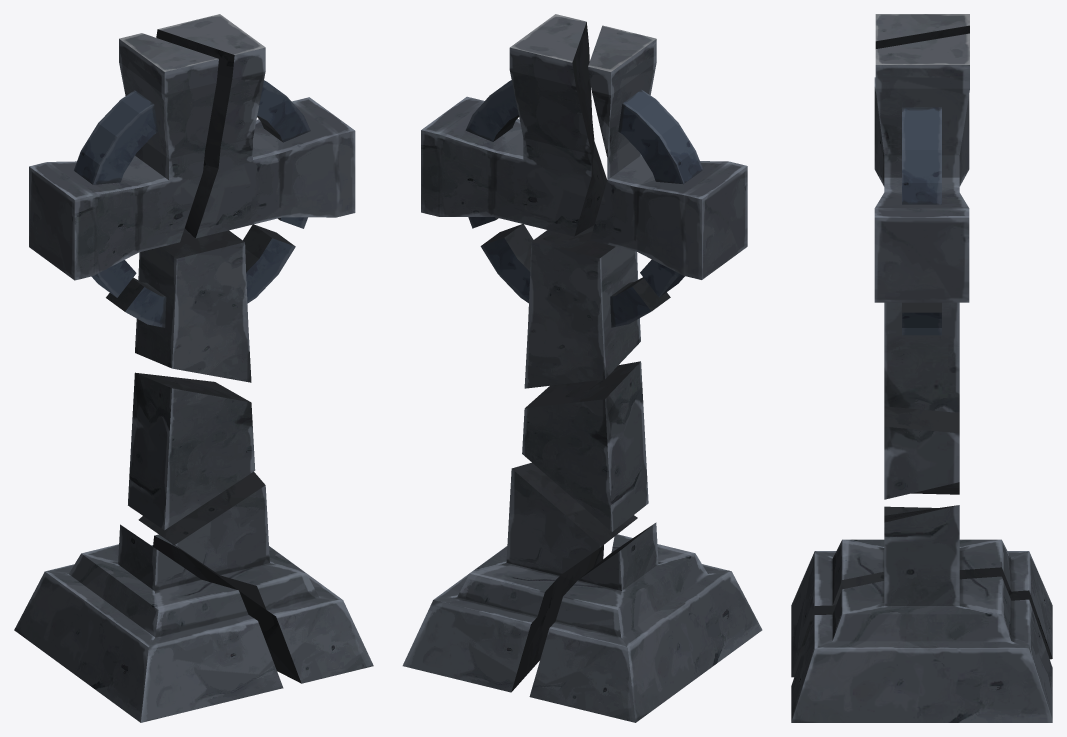
Rendered from tombstone2_split.FBX.
The picture shows the model from 3 angles, left to right: view 1: azimuth 30°, elevation 25°; view 2: azimuth 150°, elevation 25°; view 3: azimuth 270°, elevation 25°; orthographic projection. The views are drawn at different scales.
Parts seen in each view (by area): view 1: Fragment1, Fragment5, Fragment6, Fragment2, Fragment4, Fragment3; view 2: Fragment6, Fragment1, Fragment5, Fragment2, Fragment4, Fragment3; view 3: Fragment2, Fragment6, Fragment1, Fragment4, Fragment3, Fragment5.
Boxes of the visible parts, left/top/right/bottom form: Fragment1: left=14, top=524, right=283, bottom=722; Fragment5: left=29, top=33, right=218, bottom=297; Fragment6: left=156, top=14, right=355, bottom=238; Fragment2: left=138, top=472, right=373, bottom=683; Fragment4: left=106, top=224, right=295, bottom=382; Fragment3: left=128, top=372, right=255, bottom=530; Fragment6: left=421, top=14, right=607, bottom=236; Fragment1: left=529, top=522, right=762, bottom=722; Fragment5: left=588, top=25, right=747, bottom=297; Fragment2: left=402, top=462, right=637, bottom=692; Fragment4: left=480, top=224, right=670, bottom=388; Fragment3: left=522, top=361, right=648, bottom=531; Fragment2: left=791, top=505, right=1052, bottom=722; Fragment6: left=874, top=33, right=969, bottom=302; Fragment1: left=791, top=506, right=1052, bottom=677; Fragment4: left=884, top=302, right=959, bottom=412; Fragment3: left=884, top=406, right=959, bottom=499; Fragment5: left=874, top=14, right=969, bottom=186.
Bounding box in the file's own units: 34.56 × 27.04 × 71.22.
1 material, 1 textured.
